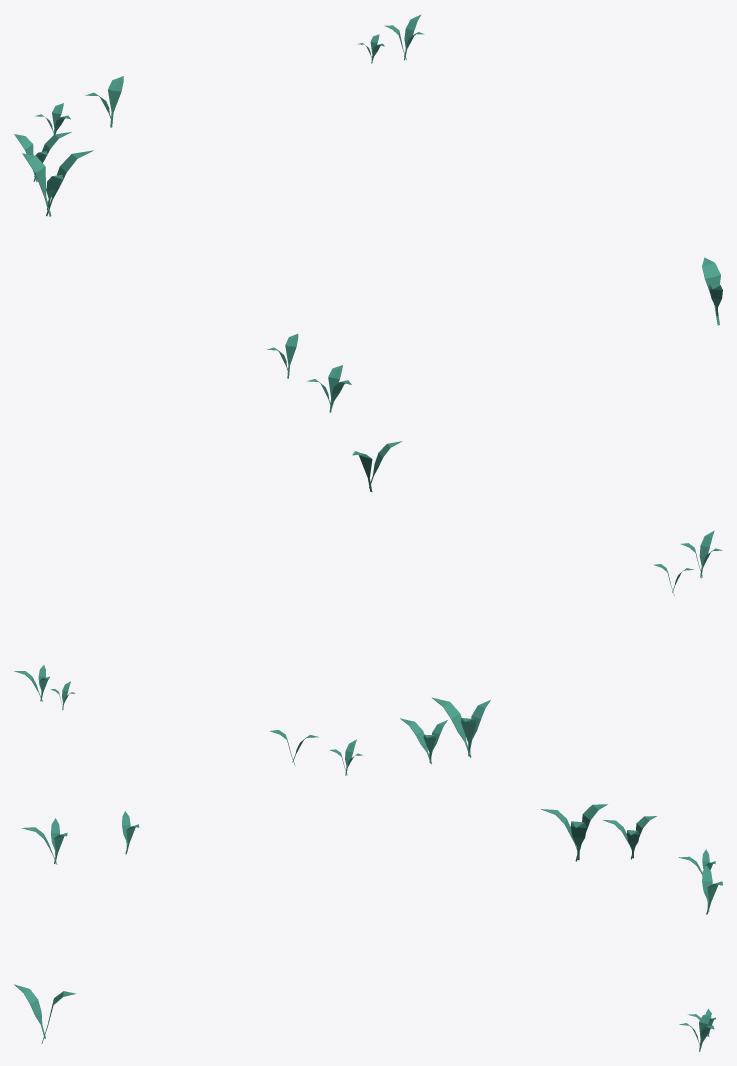
File: Playground_grass.fbx
3 renders of one model, top to bottom at view 1: azimuth 30°, elevation 25°; view 2: azimuth 150°, elevation 25°; view 3: azimuth 270°, elevation 25°, orthographic. The views are drawn at different scales.
Parts seen in each view (by area): view 1: Playground_grass; view 2: Playground_grass; view 3: Playground_grass.
Part boxes in pixels (x1,y1,x2,y2): Playground_grass: (14,14,722,412); Playground_grass: (14,441,722,775); Playground_grass: (14,804,722,1051).
Bounding box in the file's own units: 355 × 41.06 × 492.
